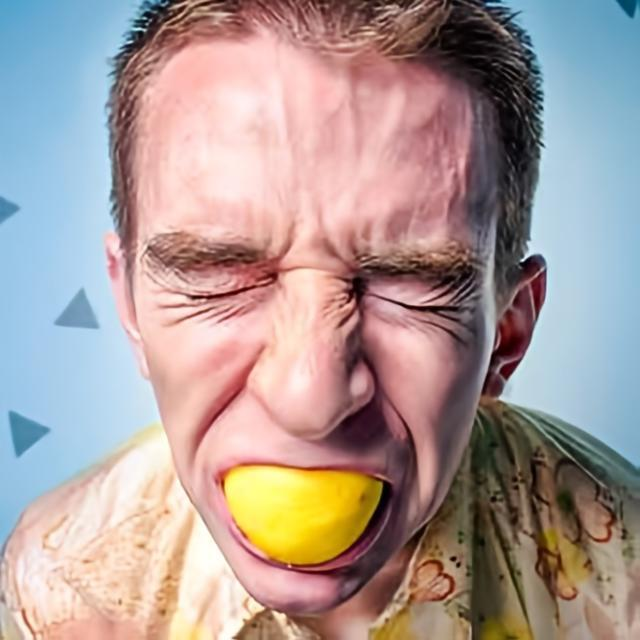disgust: (128, 35, 498, 616)
